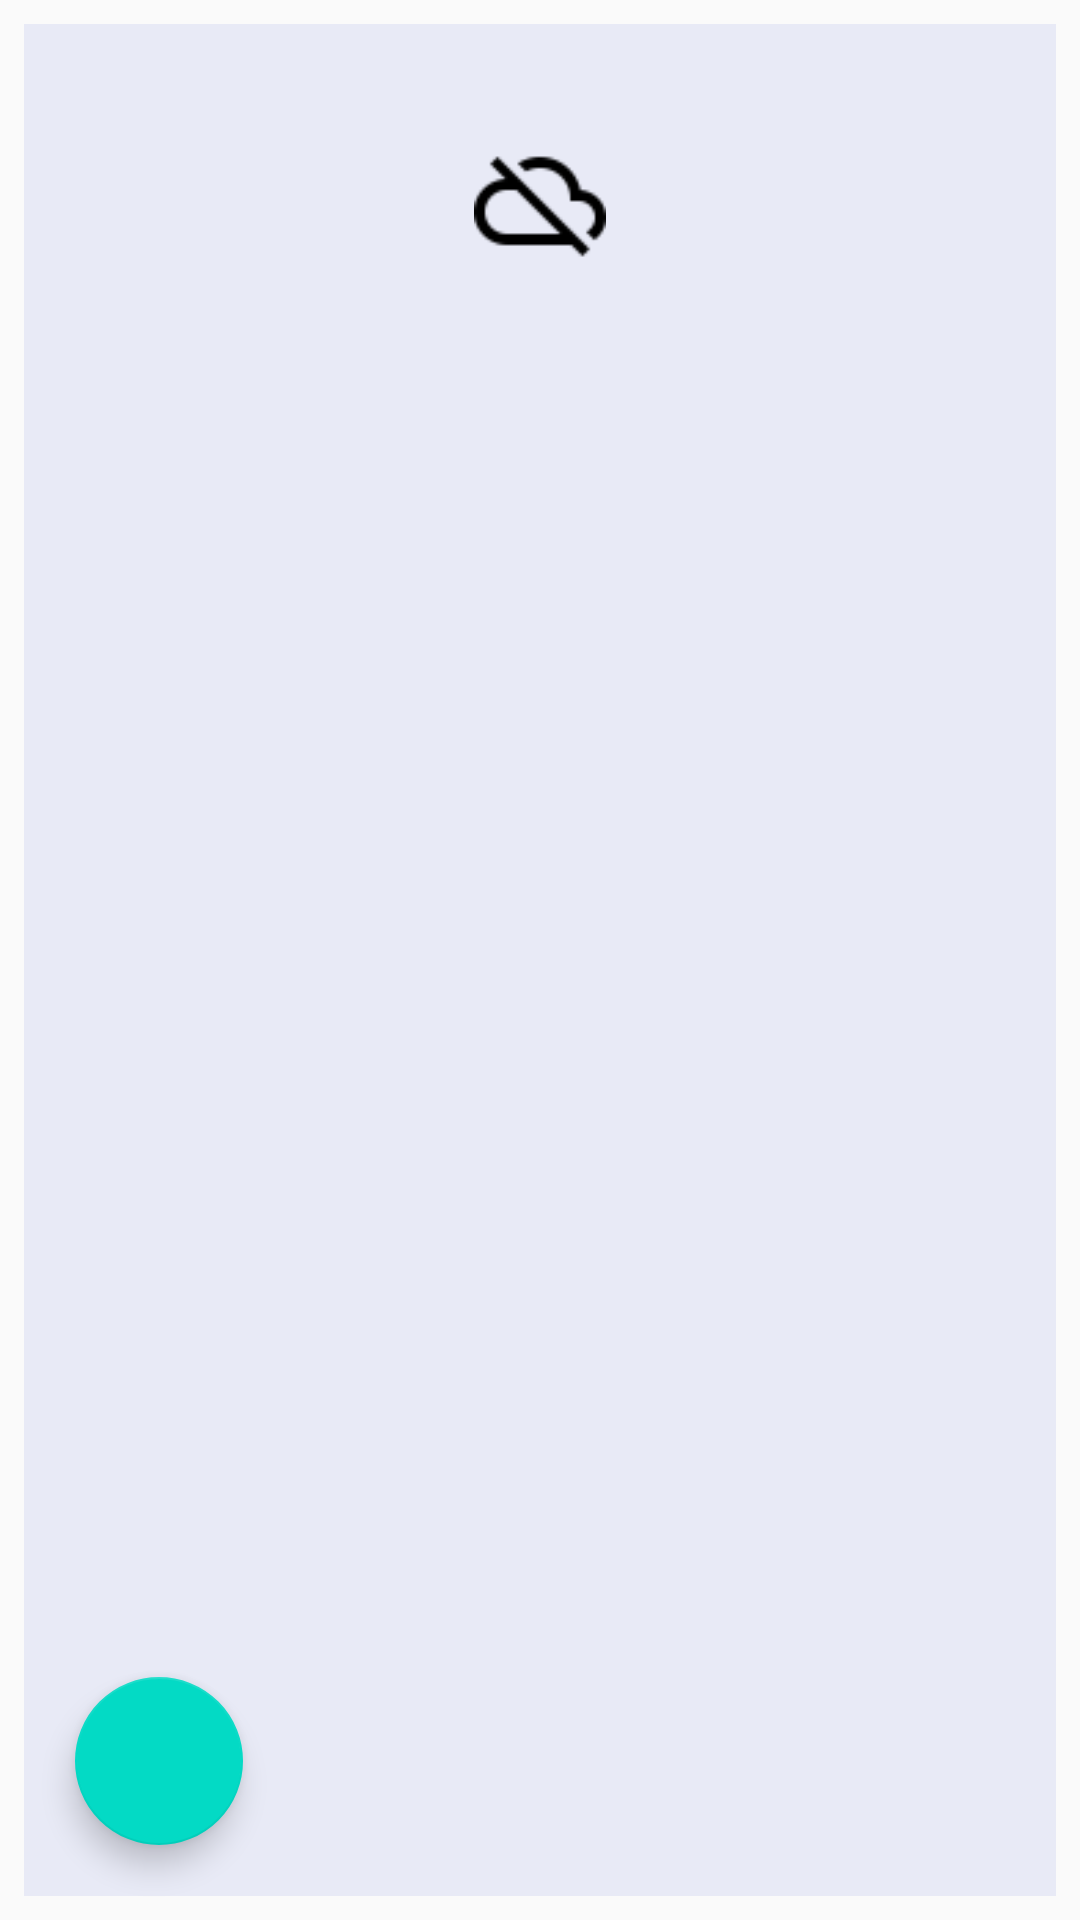

Icons on this 1080 x 1920 Android screen, each with its box as (x1, y1, x2, y2):
cloud off: (474, 156, 606, 257)
